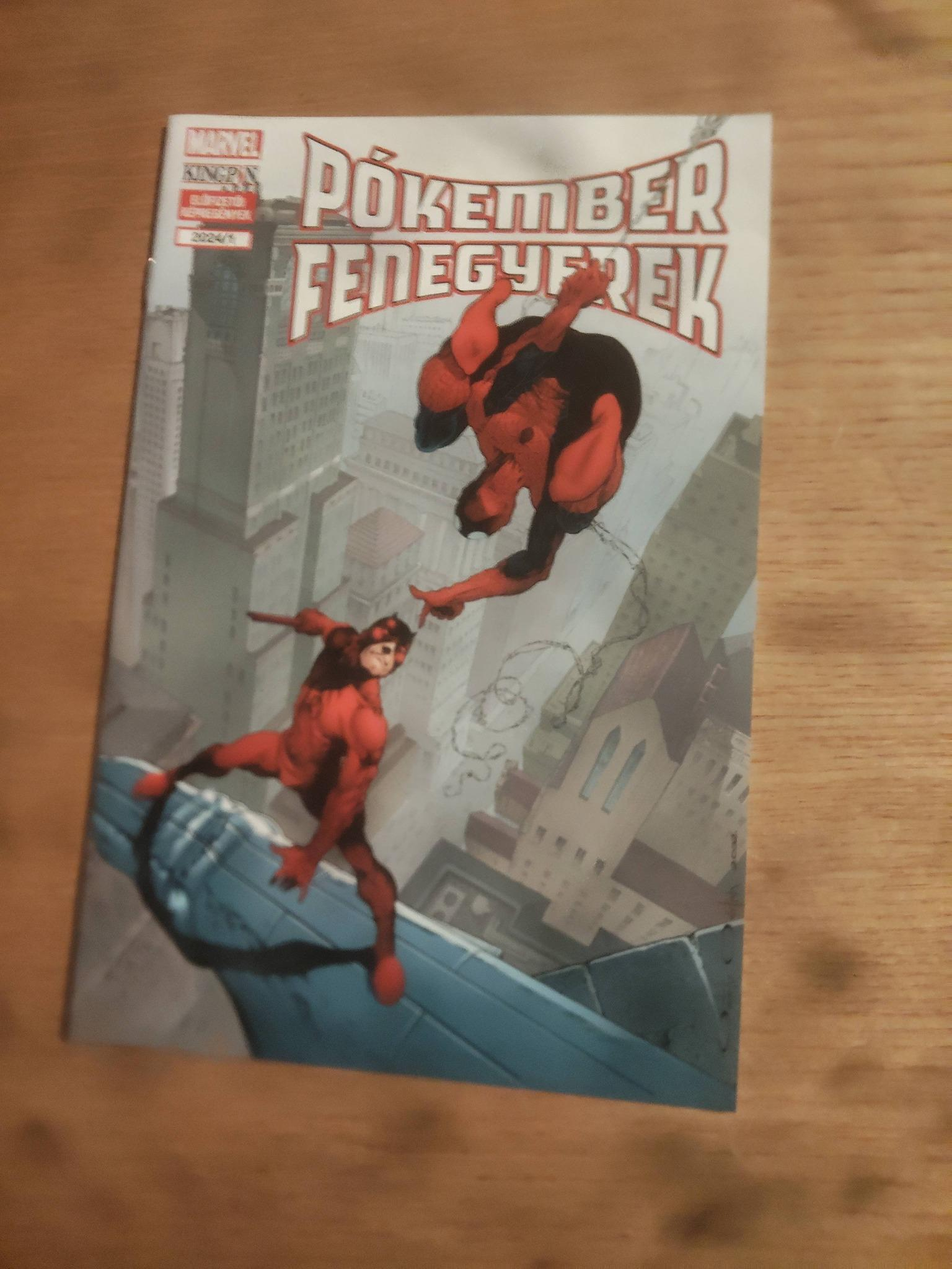comic: (66, 56, 832, 1109)
